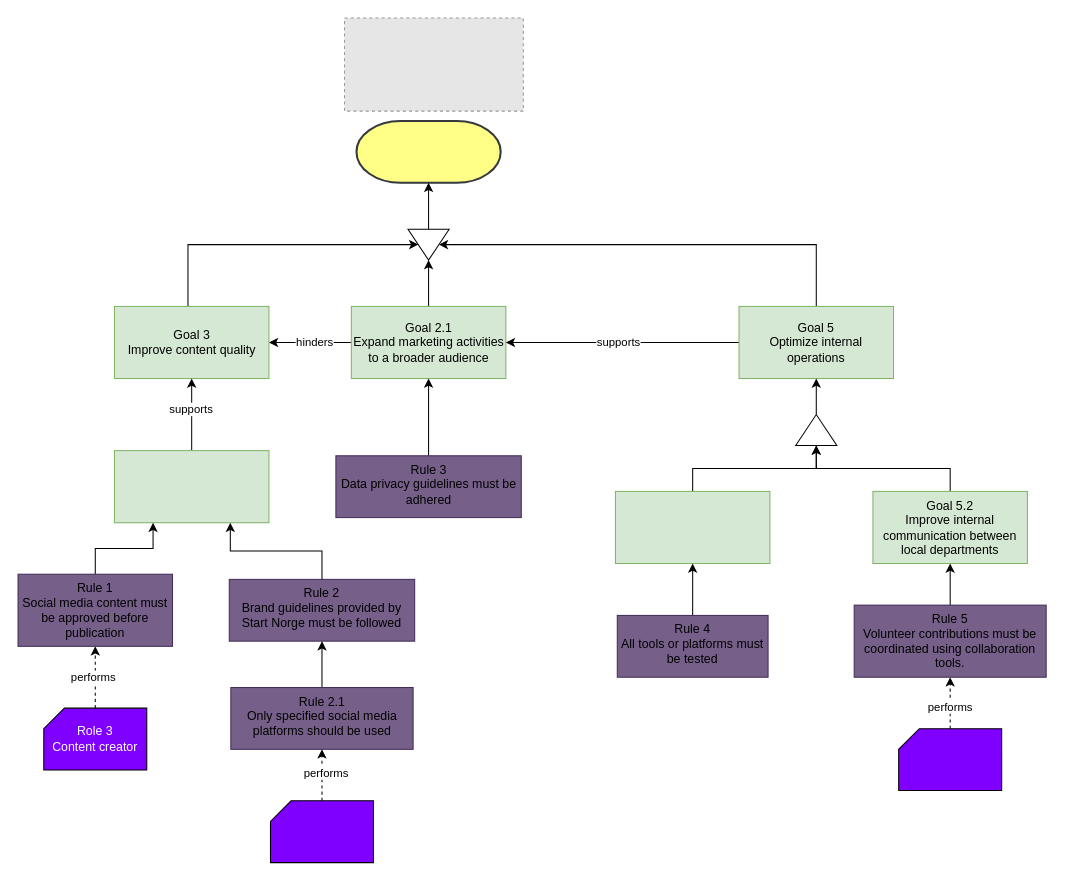
The diagram is 1065 pixels wide and 881 high, and some of its shapes have lost their labels. Grey dashed boxes stand in for pictures. The centre of each missing label's shape, as x and y in pixels:
"Concept 4 Content creation" goes at [428,151].
"Goal 3.1 Create engaging content" goes at [191,486].
"Goal 5.1 Streamline administrative tasks through automation" goes at [692,527].
"Role 1 Manager" goes at [321,831].
"Role 2 Deputy leader" goes at [950,759].
